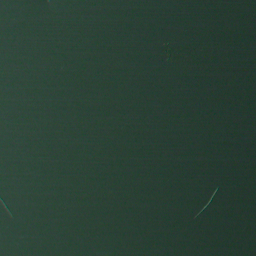sct: (192, 183, 221, 221), (1, 193, 16, 222)
